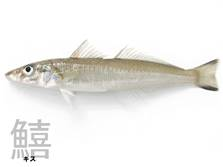kiss: (3, 51, 222, 102)
